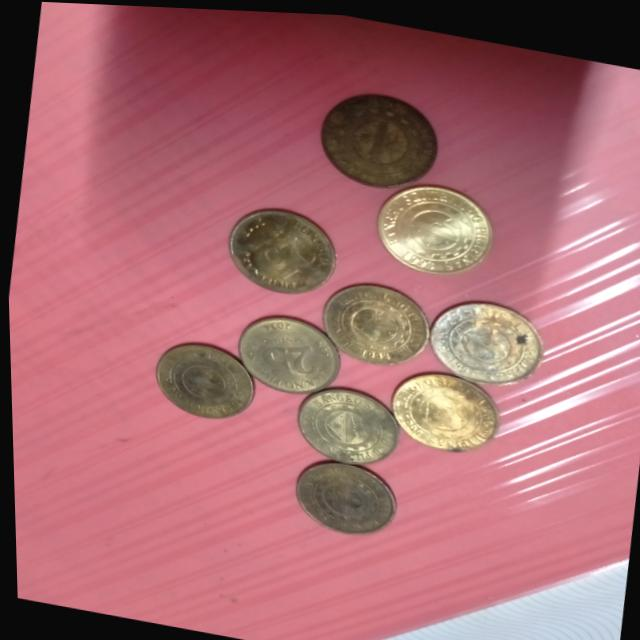25Cent_Old_Back: (374, 177, 494, 271), (323, 284, 423, 366), (298, 385, 397, 466)
25Cent_Old_Front: (241, 314, 332, 389)
